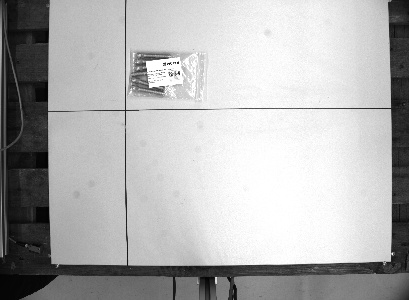t2: (124, 47, 213, 103)
